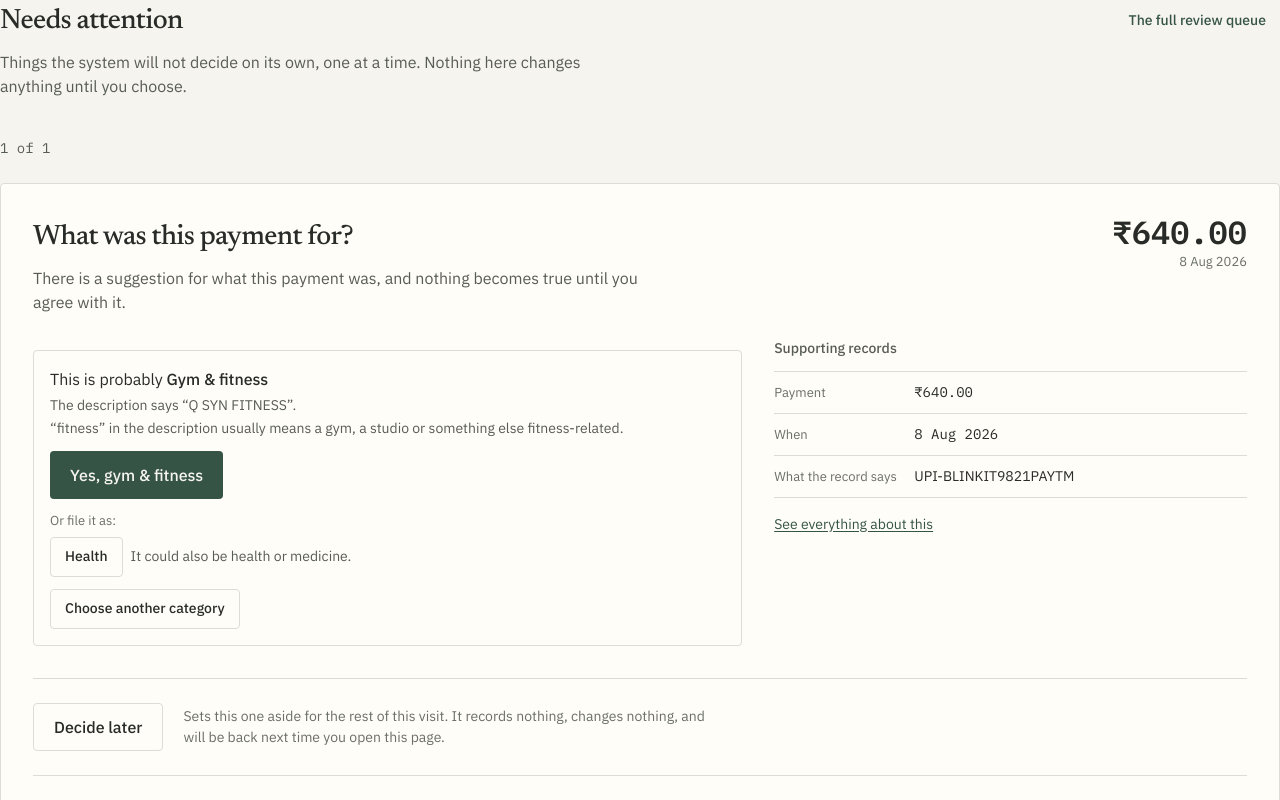
it: one question at a time › says a set-aside question was not recorded, and offers it back
Expected: the heading "What was this payment for?" is shown, 33,223 -> 353,251
Click the button "Decide later" at [98, 726], box 33,702 -> 163,750
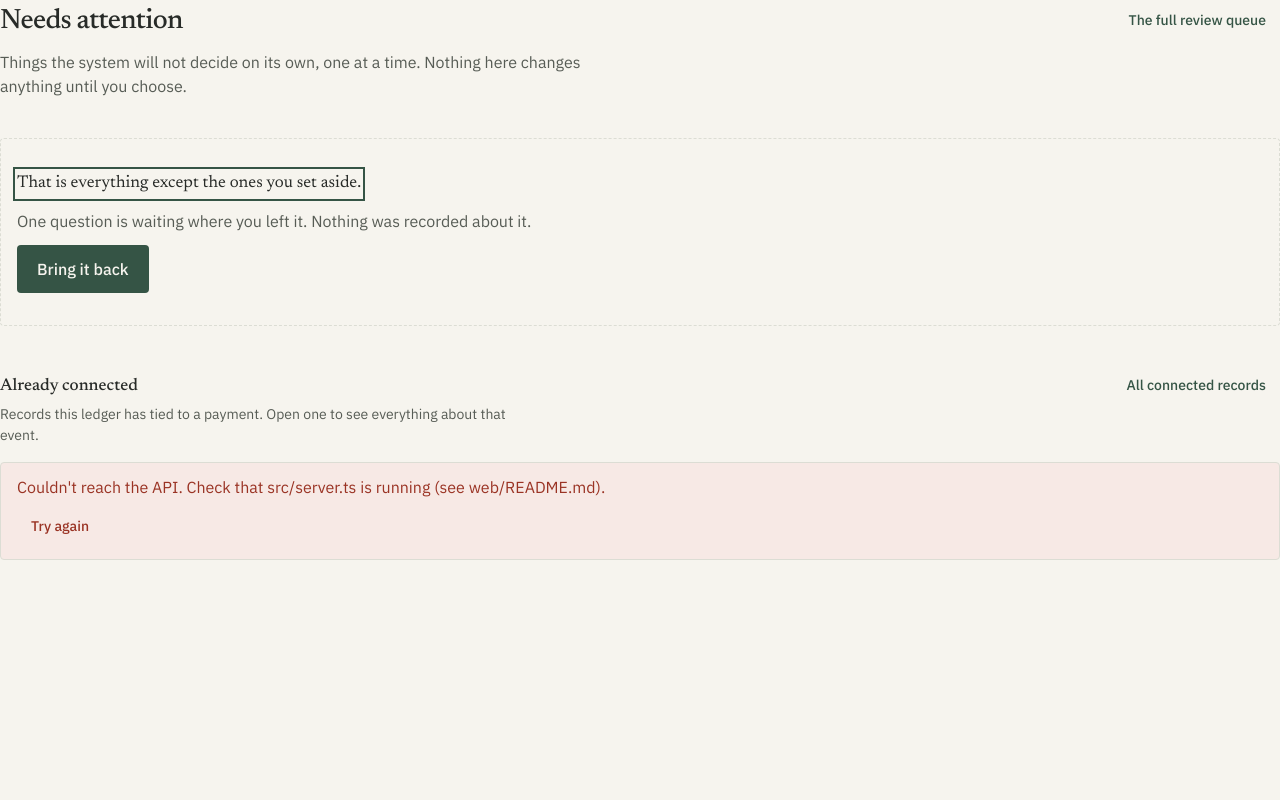
Expected: the text "That is everything except the ones you set aside." is shown, 17,171 -> 361,196
Expected: the text "Nothing was recorded about it" is shown, 17,208 -> 531,232
Click the button "Bring it back" at [83, 268], box 17,244 -> 149,292
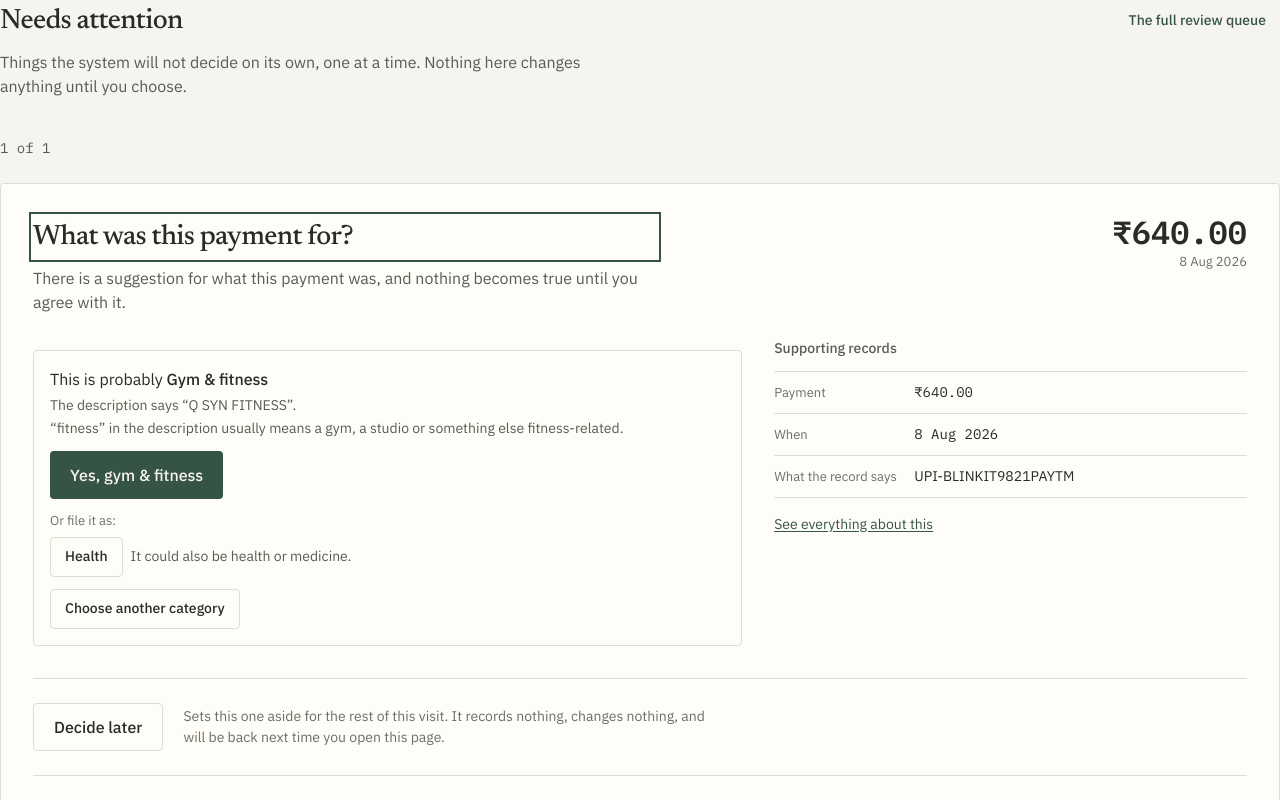
Expected: the heading "What was this payment for?" is shown, 33,223 -> 353,251
